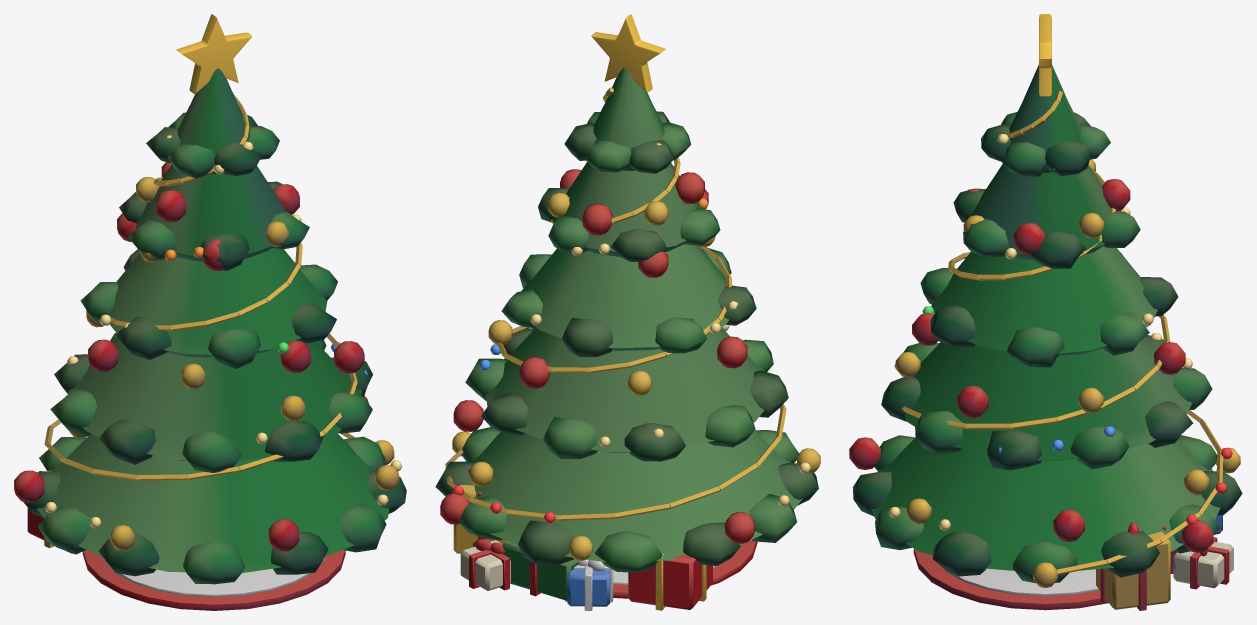
Rendered from XmasTree.fbx.
3 views of the same model, side by side, from view 1: azimuth 30°, elevation 25°; view 2: azimuth 150°, elevation 25°; view 3: azimuth 270°, elevation 25° (orthographic). The views are drawn at different scales.
Parts seen in each view (by area): view 1: SM_Xmas_Tree, SM_Xmas_Tree_Glow; view 2: SM_Xmas_Tree, SM_Xmas_Tree_Glow; view 3: SM_Xmas_Tree, SM_Xmas_Tree_Glow.
Boxes of the visible parts, x1,y1,x2,y2 form: SM_Xmas_Tree: (14,68,406,610); SM_Xmas_Tree_Glow: (45,14,401,528); SM_Xmas_Tree: (435,67,820,610); SM_Xmas_Tree_Glow: (452,14,810,522); SM_Xmas_Tree: (849,65,1242,610); SM_Xmas_Tree_Glow: (888,14,1232,530).
Bounding box in the file's own units: 9.14 × 13.59 × 8.95.
